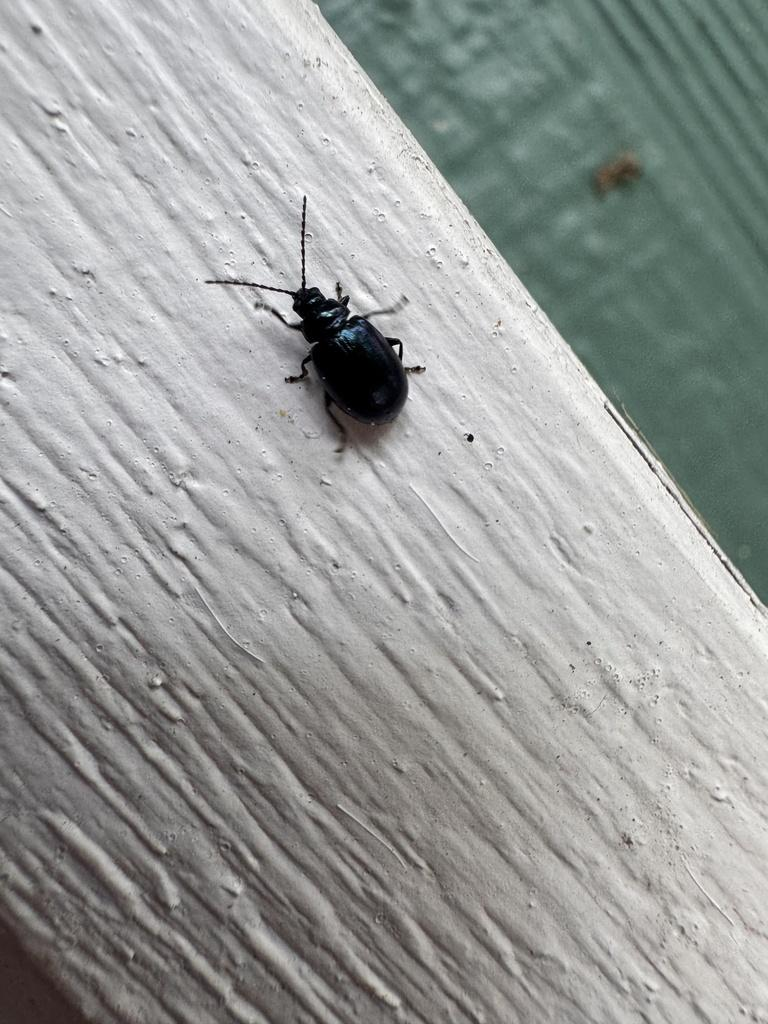flea_beetle: (159, 160, 513, 492)
